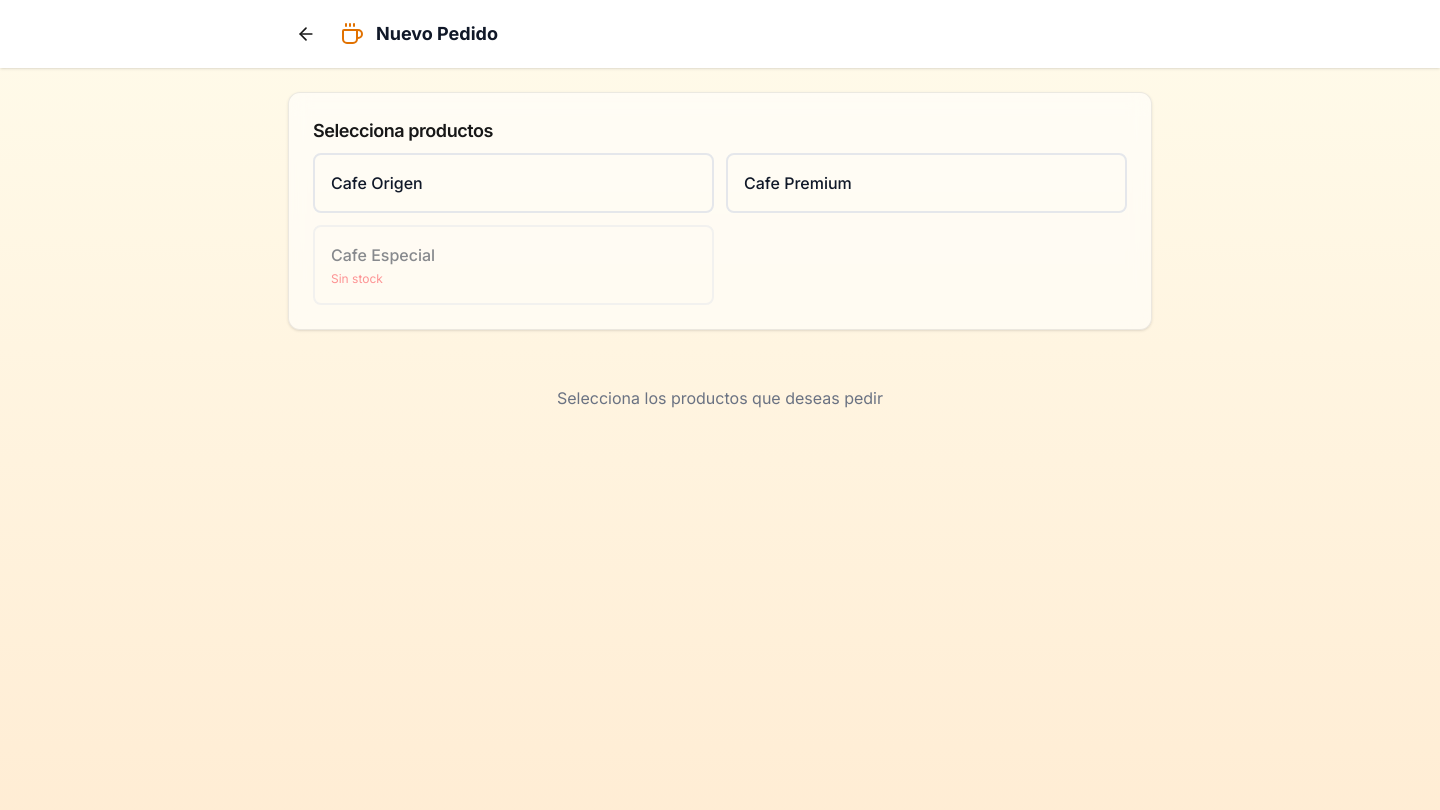
Test: NuevoPedidoPage › Cart Management › should increase quantity when plus button is clicked
The image size is (1440, 810).
Expected: the text "Cafe Origen" is shown, [331,173,423,193]
Click the button "Cafe Origen" at (377, 183), box [313,153,714,213]
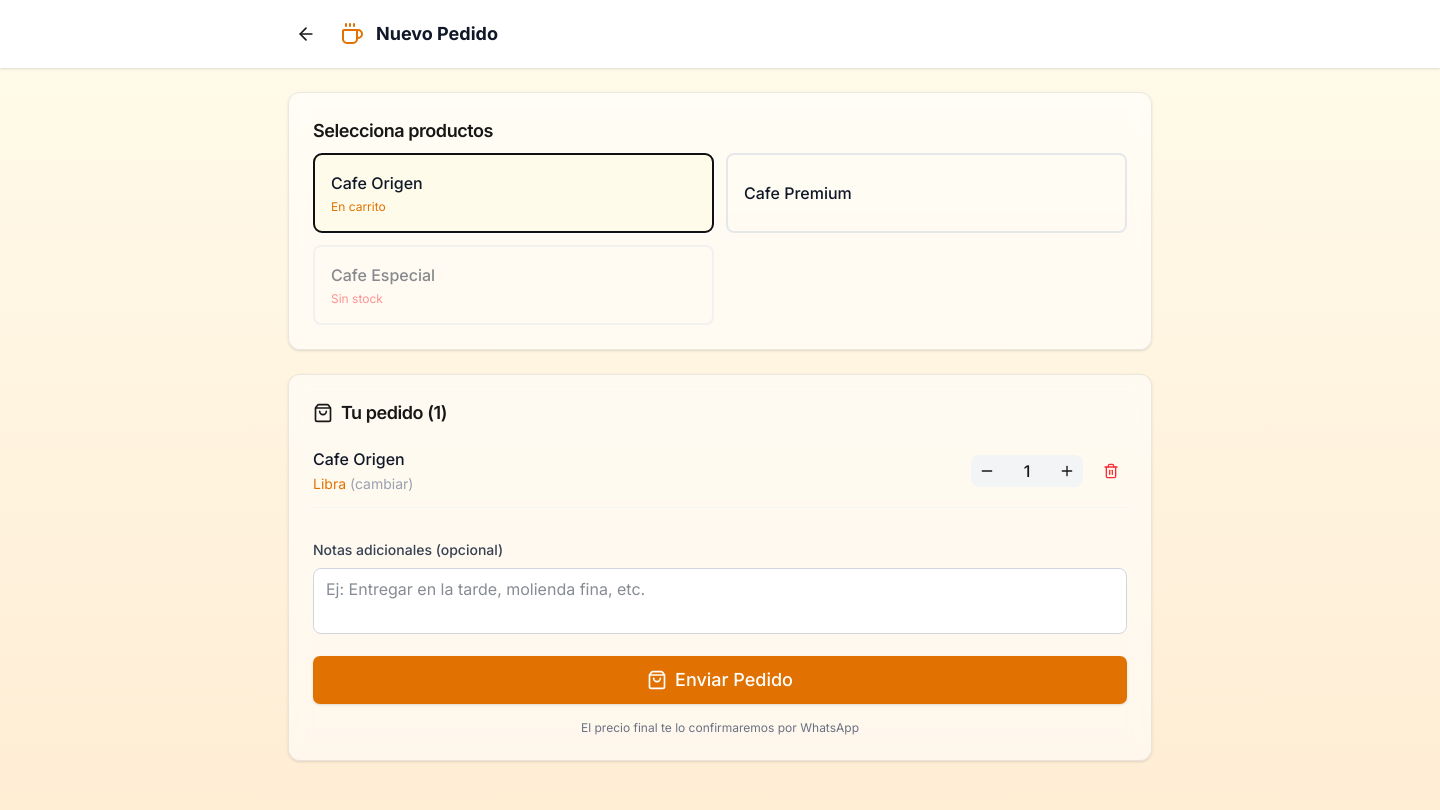
Now the text "1" is shown, box [1024,461,1030,481]
Click the 6th button at (1067, 471), box [1051,455,1083,487]
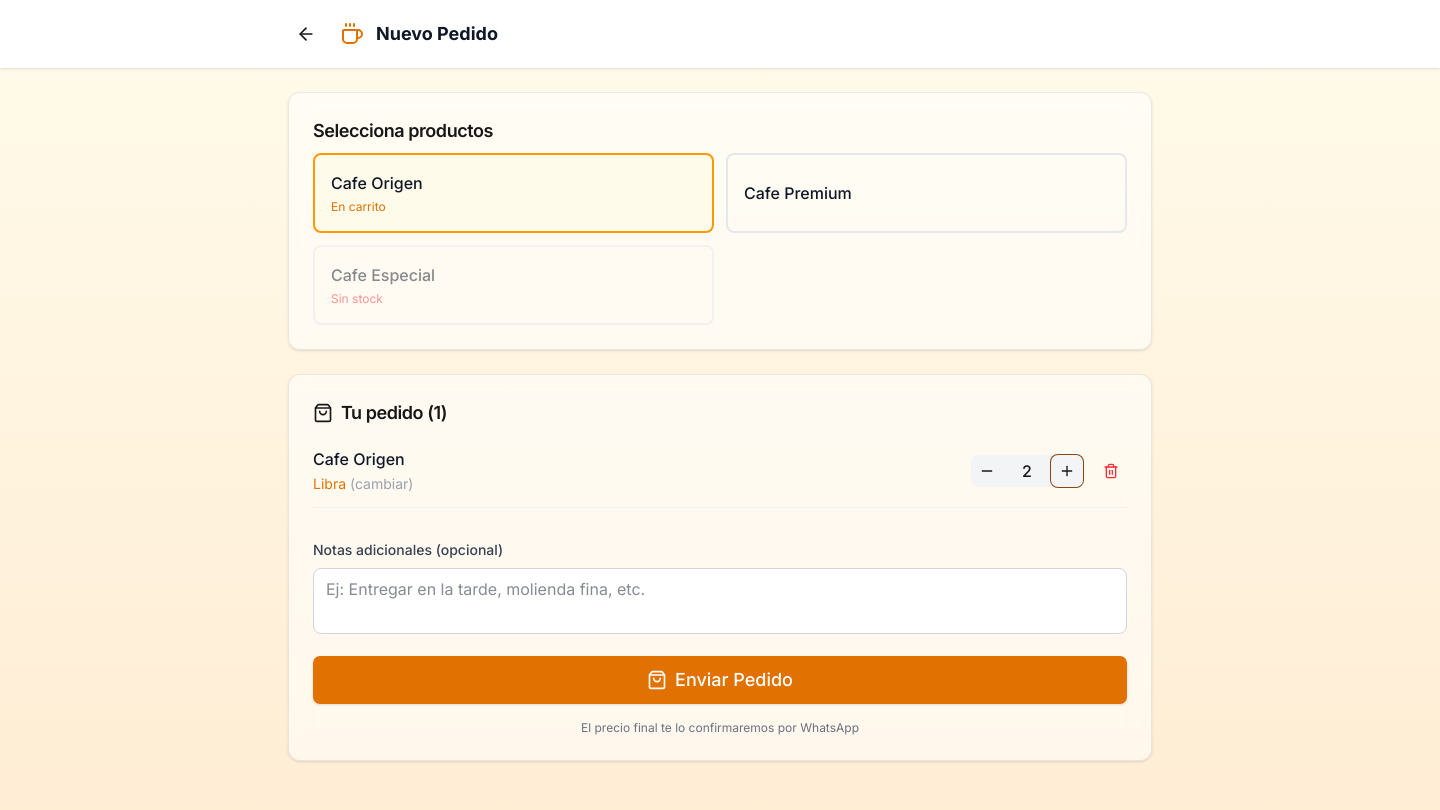
Now the text "2" is shown, box [1022,461,1032,481]
